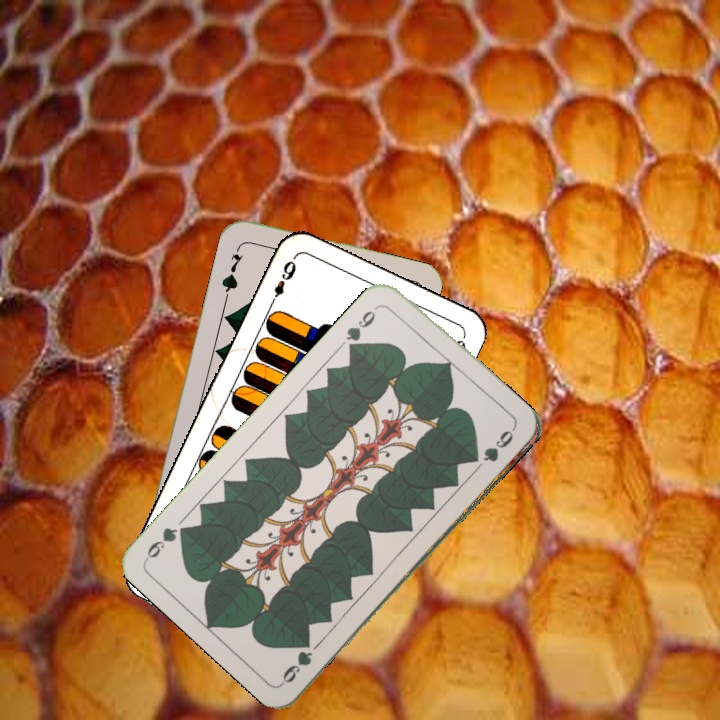E9: (265, 256, 299, 309)
G7: (217, 242, 246, 300)
G9: (277, 637, 315, 687), (341, 306, 378, 354)
